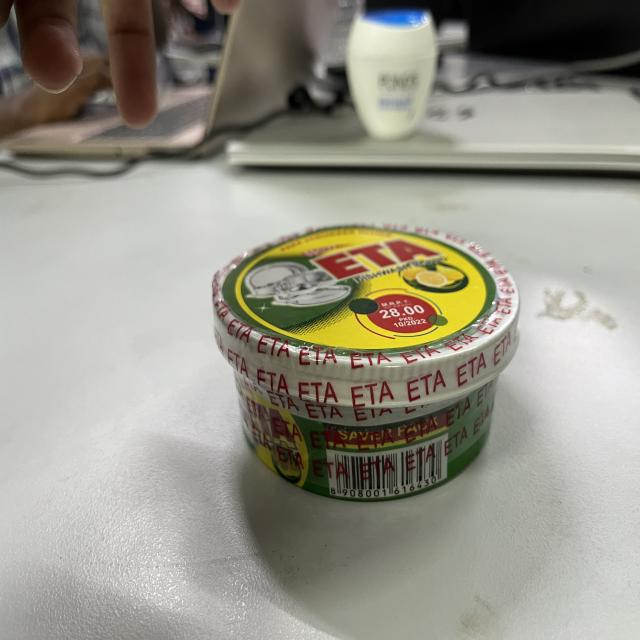L2: (200, 210, 530, 488)
